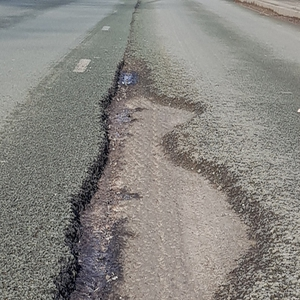pothole: (62, 57, 276, 300)
